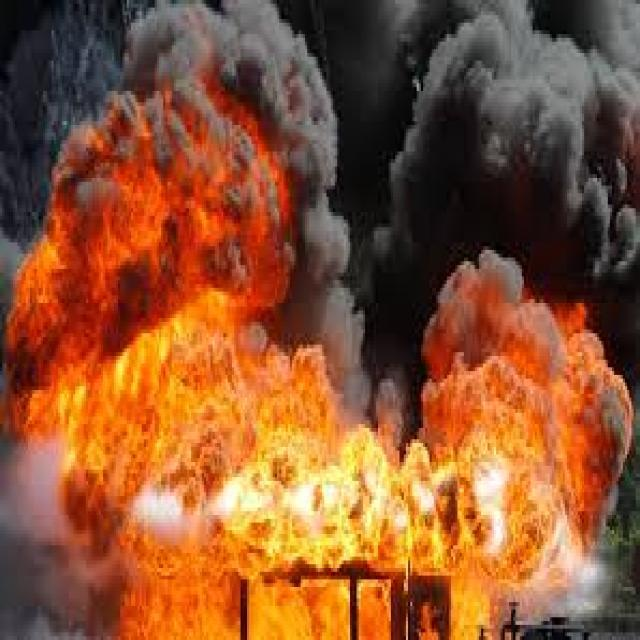fire: (78, 383, 616, 636)
